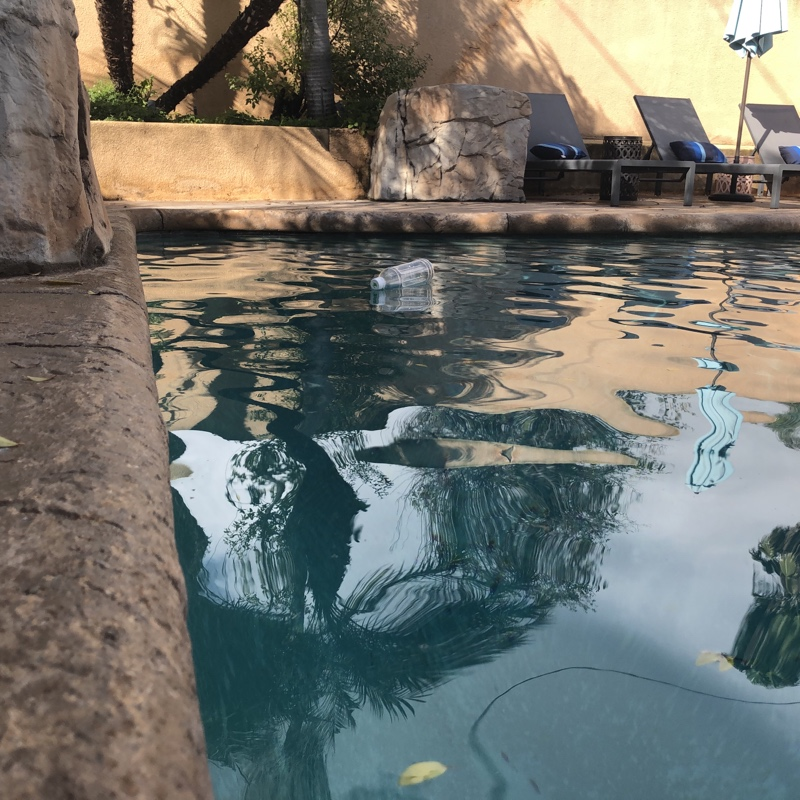Plastic Bottle: (365, 251, 435, 297)
